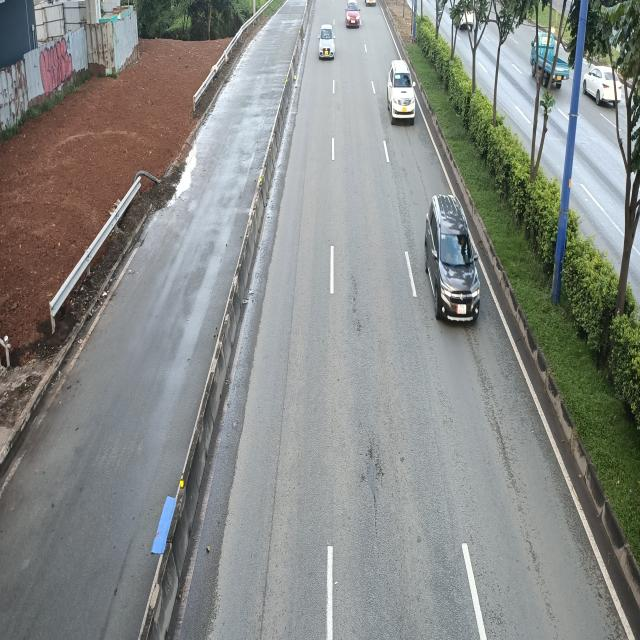car: (420, 198, 482, 328), (385, 56, 416, 125), (317, 22, 335, 62), (346, 0, 360, 29)
